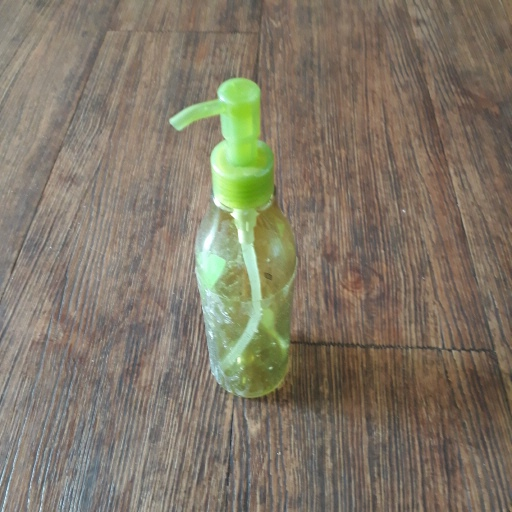Plastic_3: (165, 76, 299, 399)
